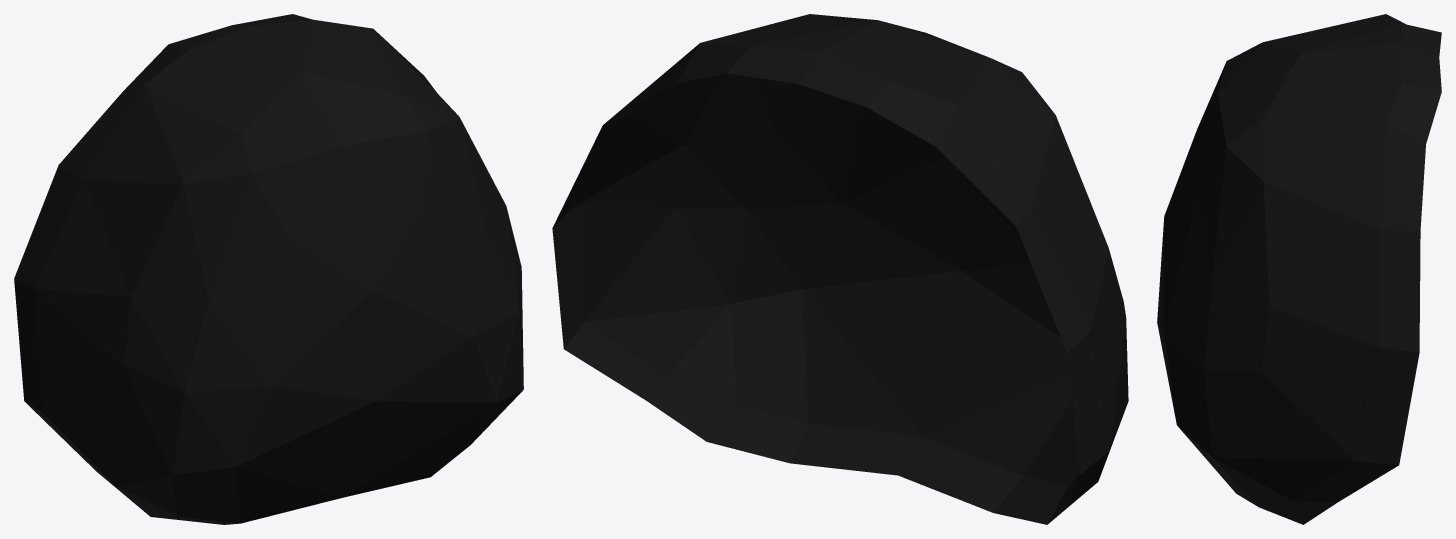
File: GrillmasterHat.glb
The picture shows the model from 3 angles, left to right: view 1: azimuth 30°, elevation 25°; view 2: azimuth 150°, elevation 25°; view 3: azimuth 270°, elevation 25°; orthographic projection. The views are drawn at different scales.
Visible parts, largest first — view 1: GrillmasterHat; view 2: GrillmasterHat; view 3: GrillmasterHat.
Part boxes in pixels (x1=…): GrillmasterHat: x1=14, y1=14, x2=523, y2=524; GrillmasterHat: x1=552, y1=14, x2=1128, y2=524; GrillmasterHat: x1=1157, y1=14, x2=1441, y2=524.
Size of the model in its own units: 0.1857 by 0.1646 by 0.1005.
Materials: 1 (1 with a texture image).
